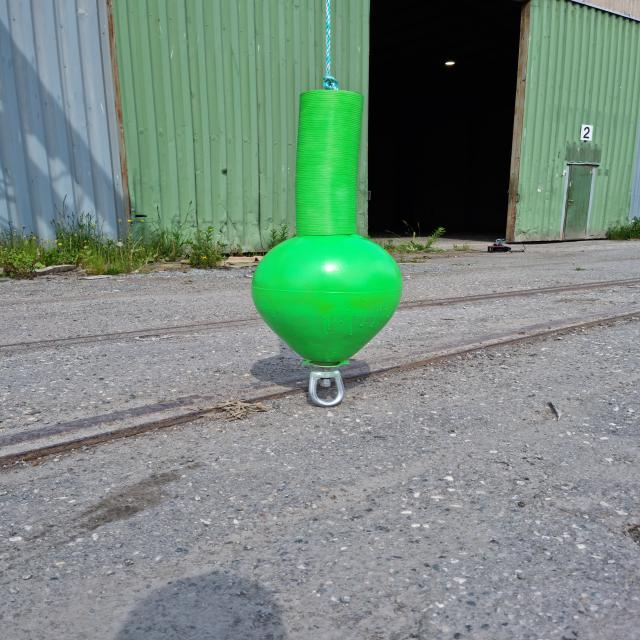green: (250, 92, 404, 364)
